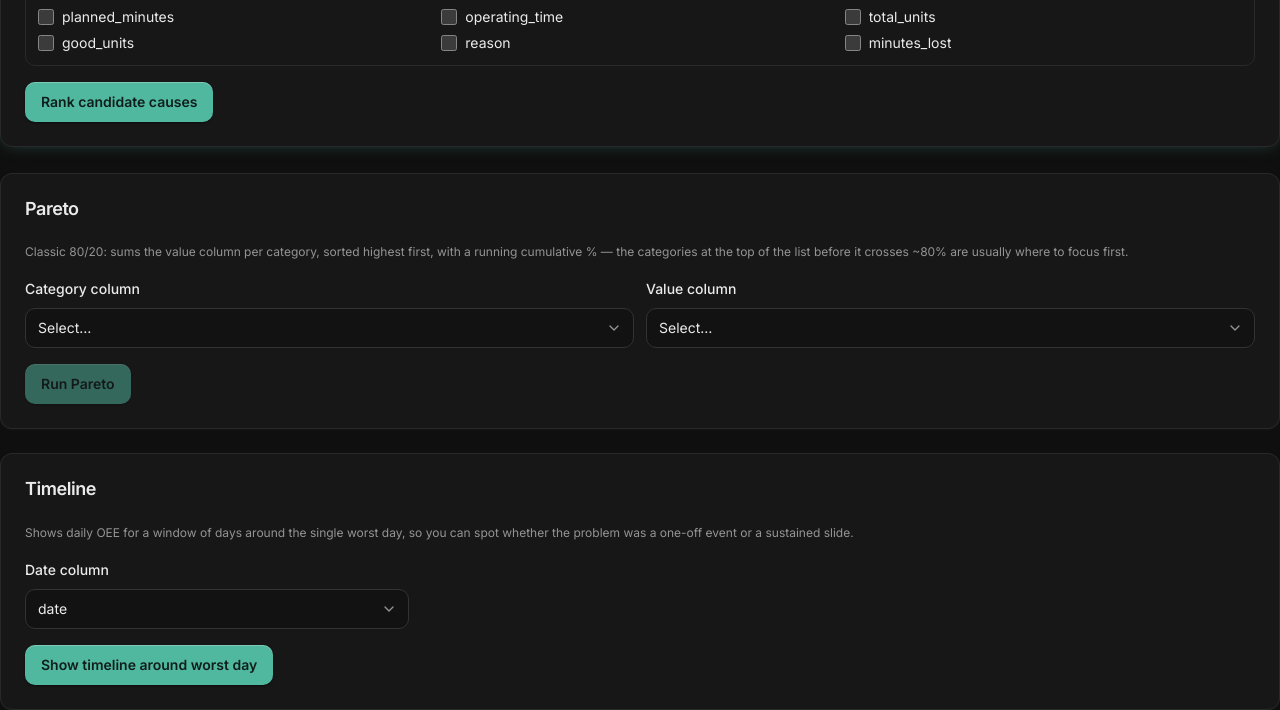
Scenario: Analysis › shows a timeline error
The image size is (1280, 710).
(page scrolled)
Click the button "Show timeline around worst day".
click(149, 664)  # box [25, 644, 273, 684]
(page scrolled)
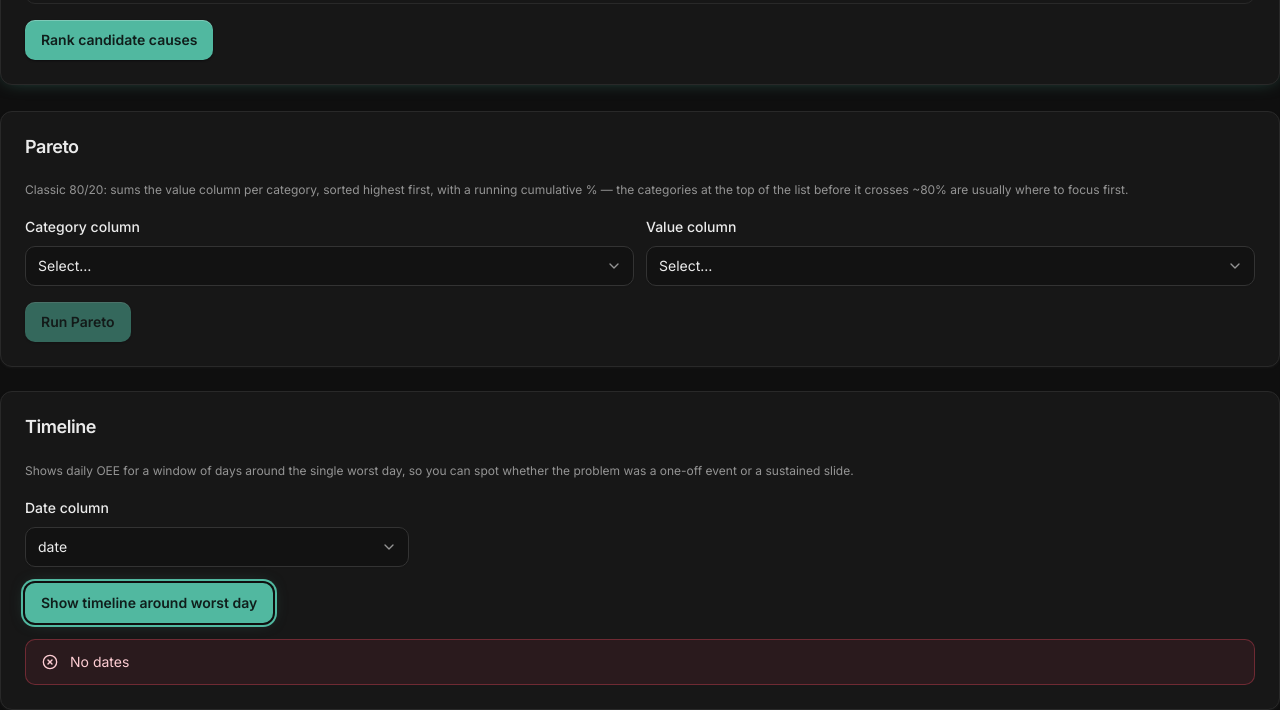
Check: the text "No dates" is shown, box [70, 652, 129, 672]
